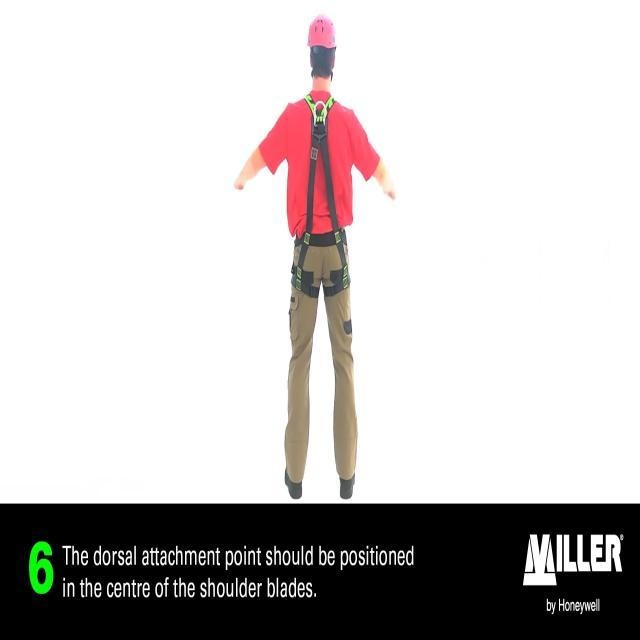Arnes_seguridad: (288, 86, 353, 304)
